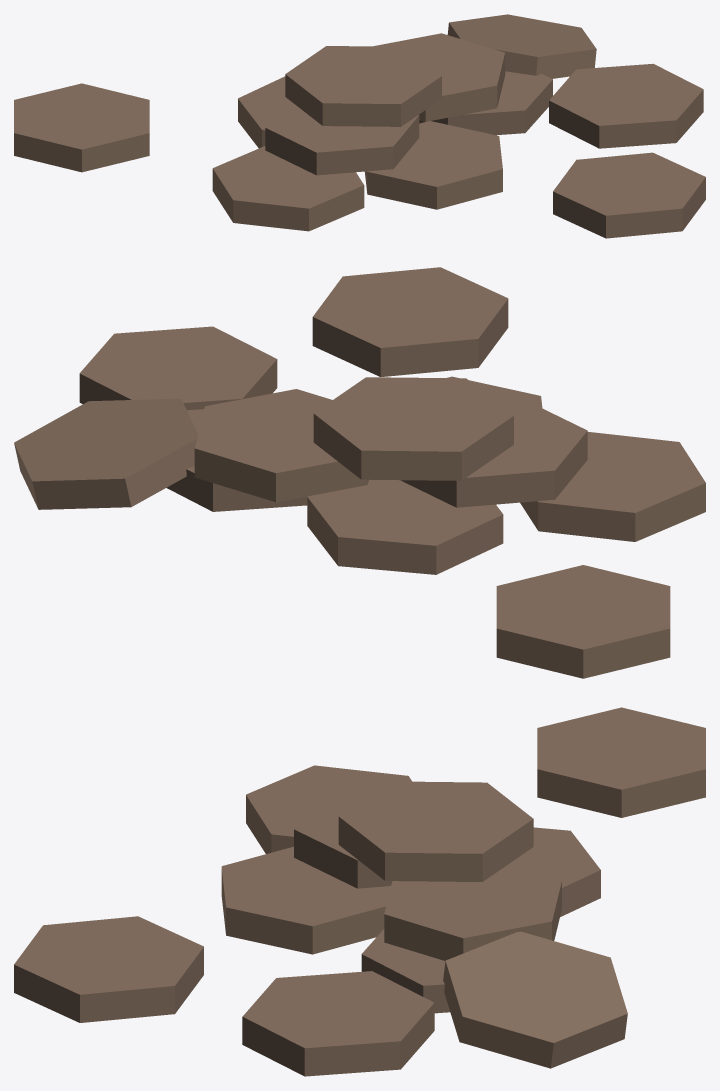
File: SM_Item_Coins_01.glb
The picture shows the model from 3 angles, top to bottom: view 1: azimuth 30°, elevation 25°; view 2: azimuth 150°, elevation 25°; view 3: azimuth 270°, elevation 25°; orthographic projection. The views are drawn at different scales.
Parts seen in each view (by area): view 1: SM_Item_Coins_01_00; view 2: SM_Item_Coins_01_00; view 3: SM_Item_Coins_01_00.
Boxes of the visible parts, bbox=[...] form: SM_Item_Coins_01_00: bbox=[14, 14, 705, 238]; SM_Item_Coins_01_00: bbox=[14, 267, 705, 678]; SM_Item_Coins_01_00: bbox=[14, 707, 705, 1076].
Size of the model in its own units: 0.3514 by 0.0444 by 0.3015.
1 material, 1 textured.
